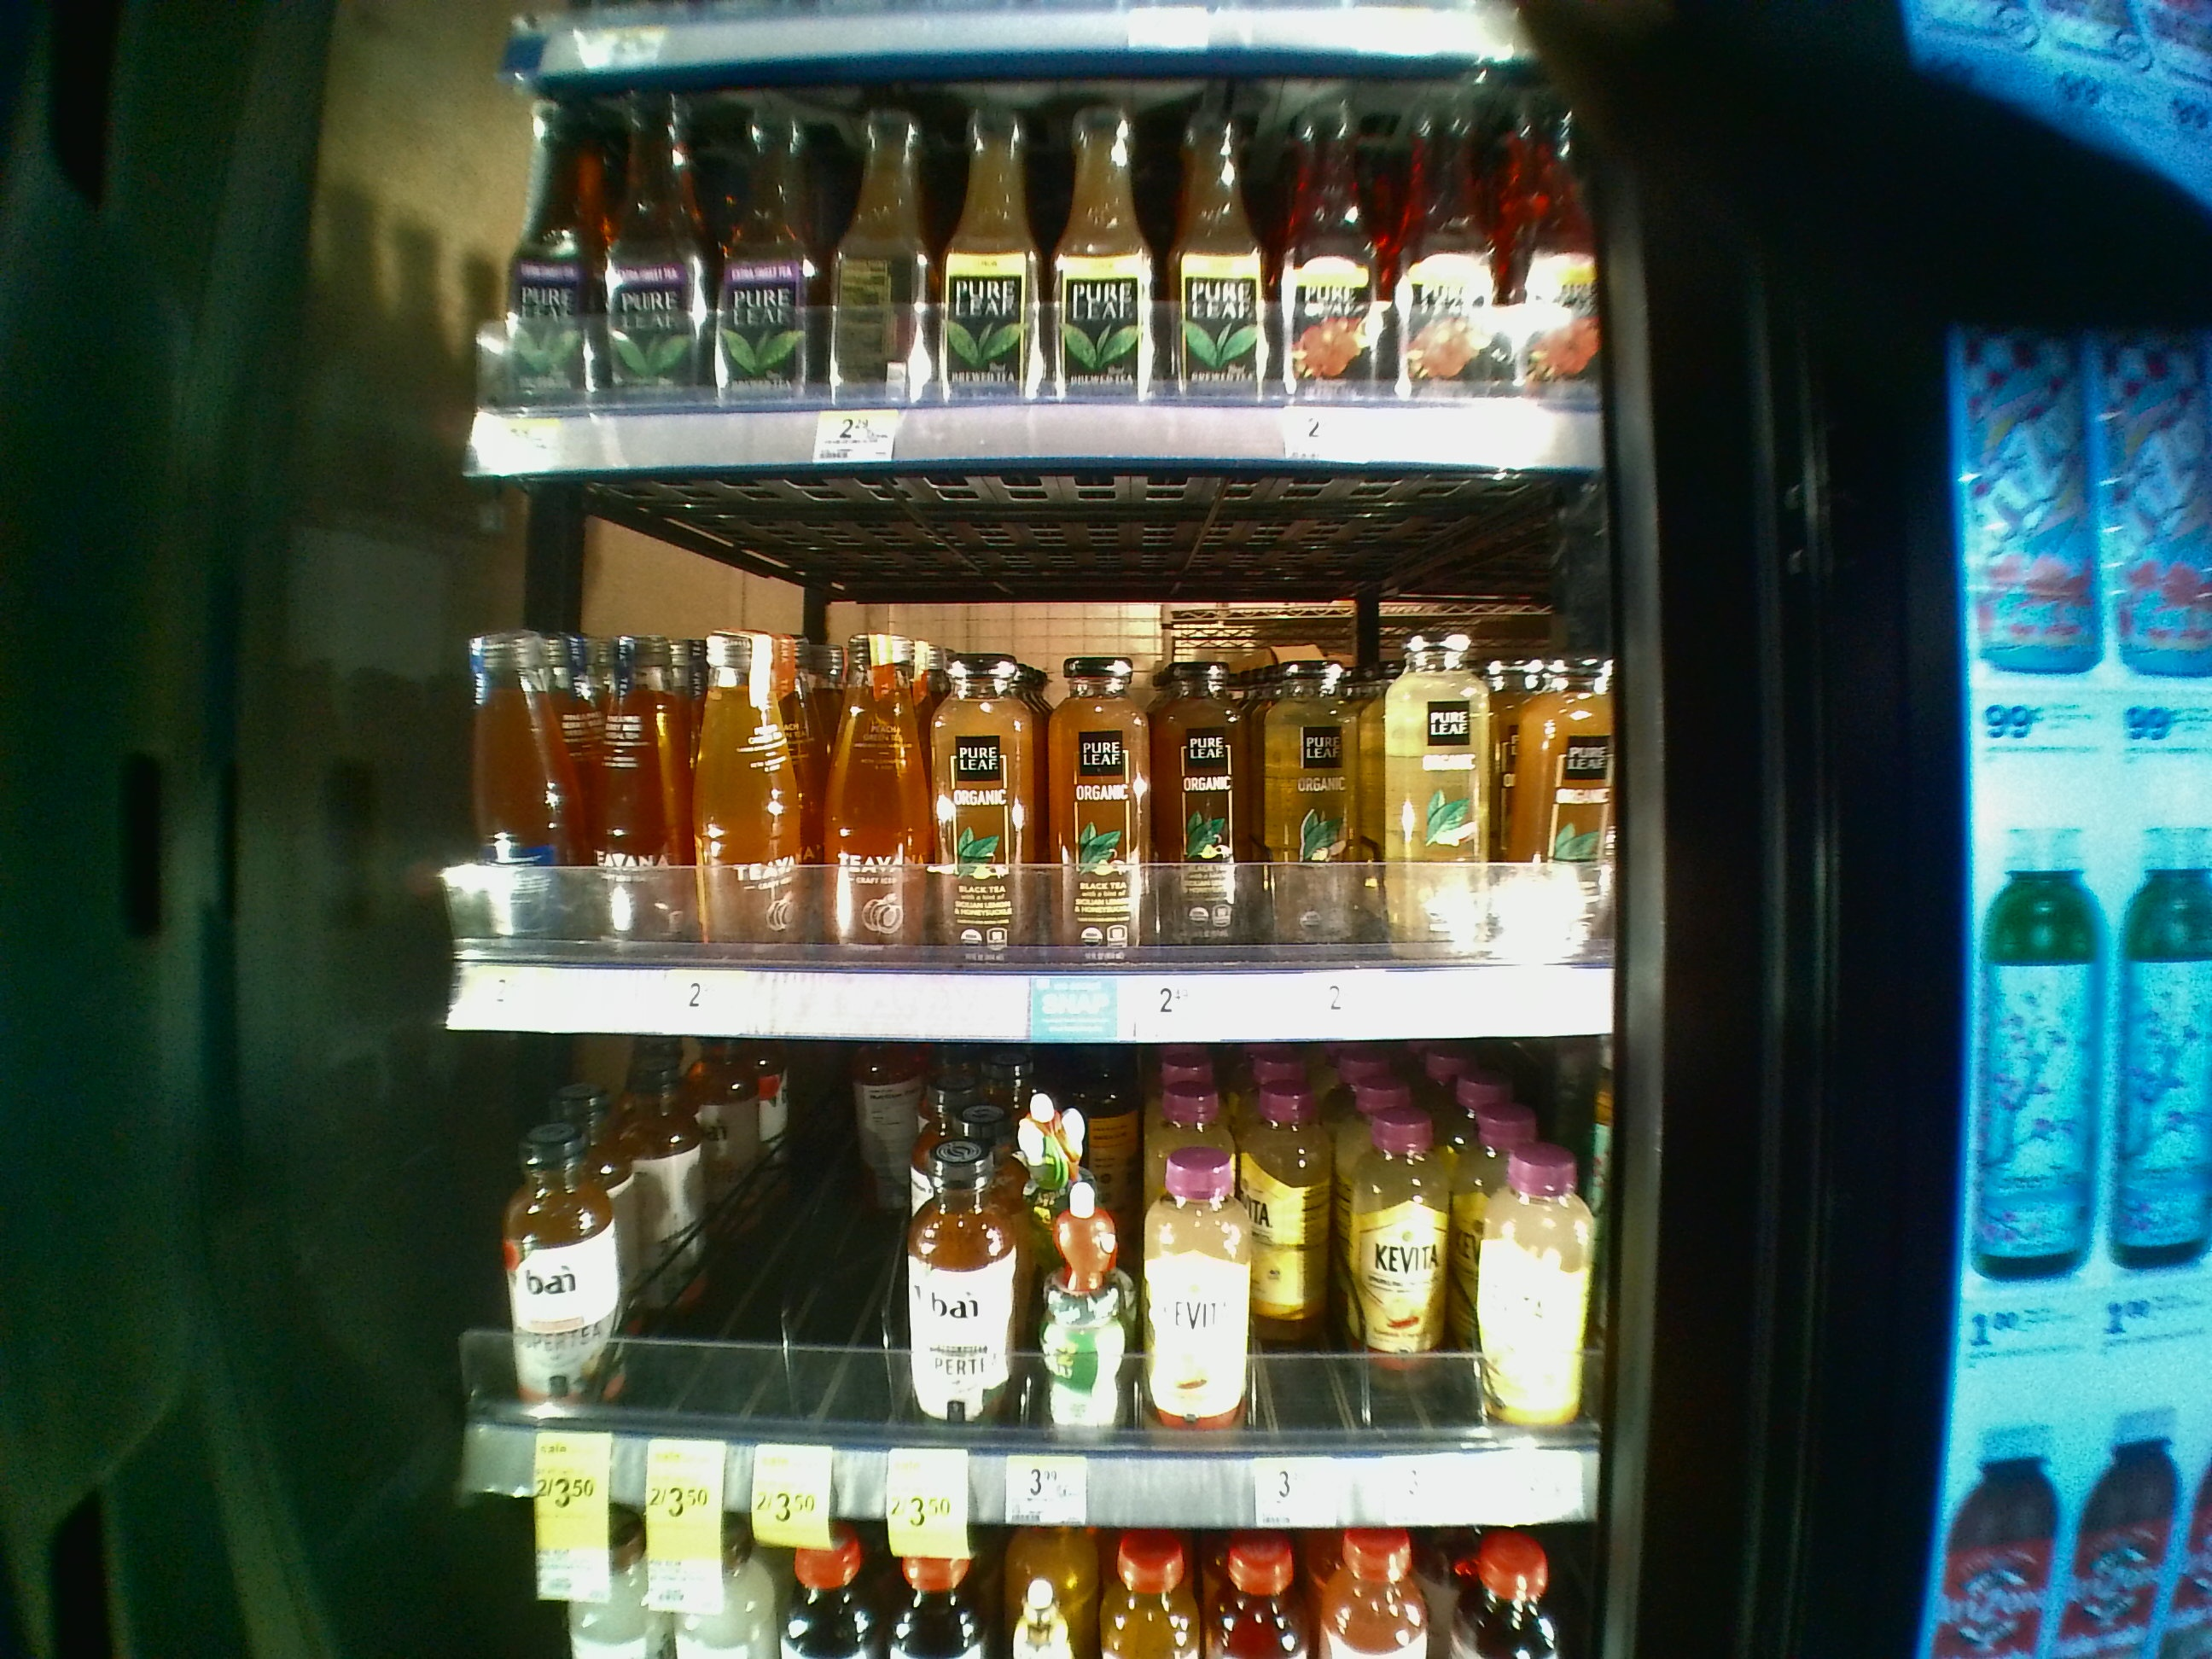shelf: (444, 490, 1611, 1040), (444, 1047, 1618, 1525), (467, 66, 1595, 462)
